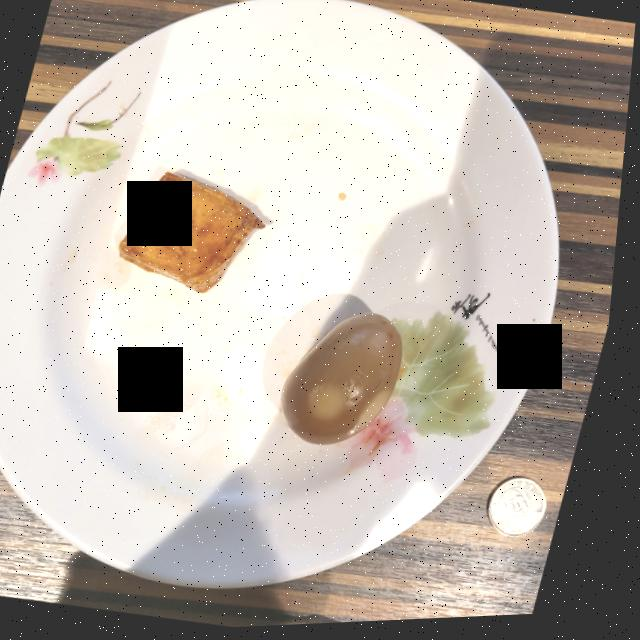coin: (497, 482, 556, 542)
creamy tofu: (123, 174, 268, 294)
soy egg: (288, 316, 409, 448)
